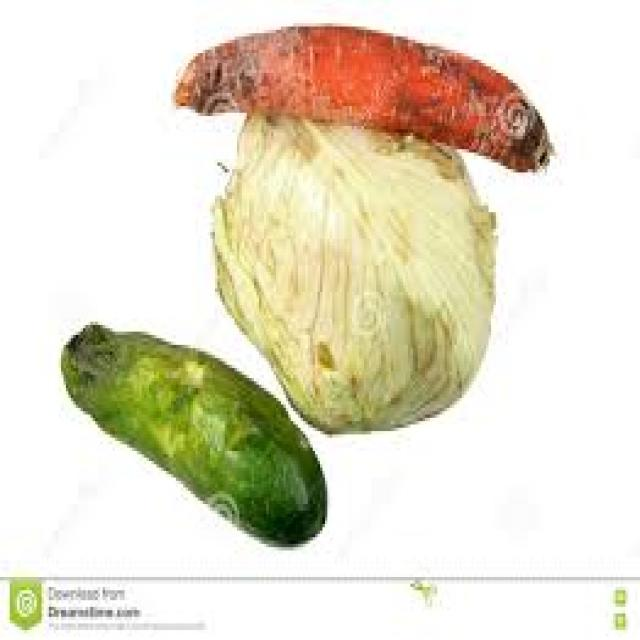organic waste: (210, 110, 496, 431), (59, 322, 325, 544), (171, 20, 550, 172)
